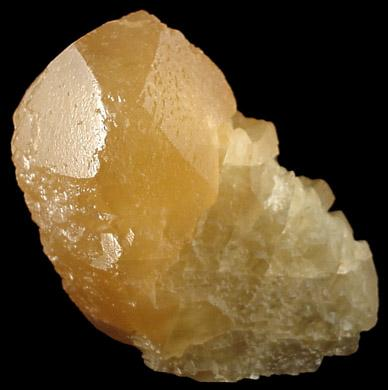calcite: (12, 11, 379, 382)
